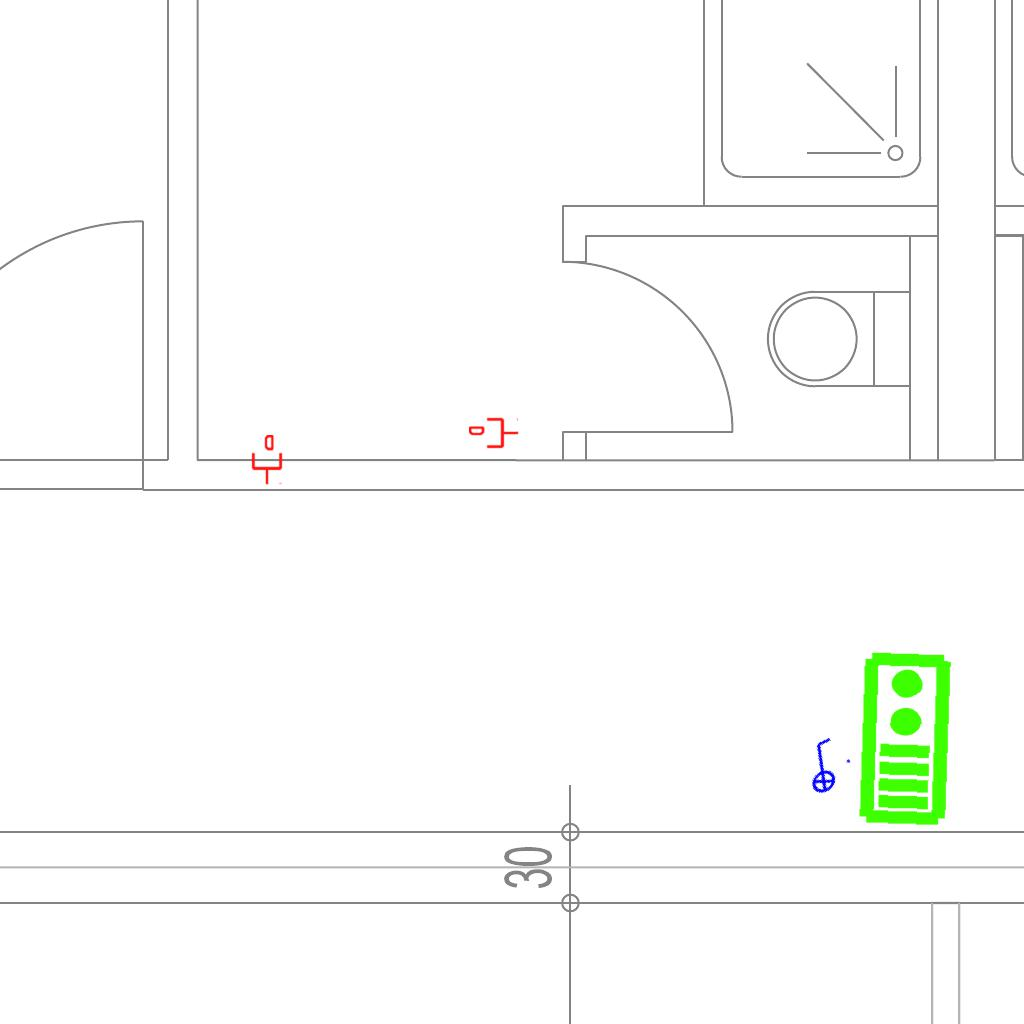Ausschalter_beleuchtet: (785, 729, 859, 803)
Datenanschluss_einfach: (250, 435, 284, 485), (469, 416, 519, 450)
Gegensprechanlage_mit_Video: (852, 648, 955, 828)
